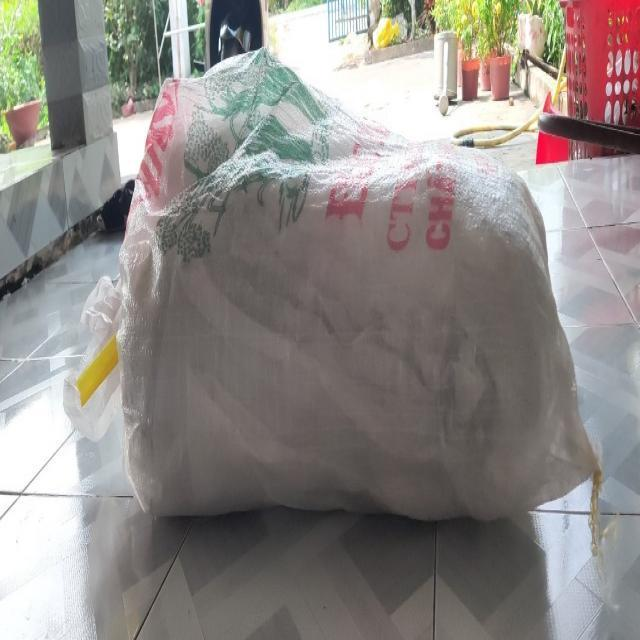gunny_bag: (118, 45, 598, 519)
